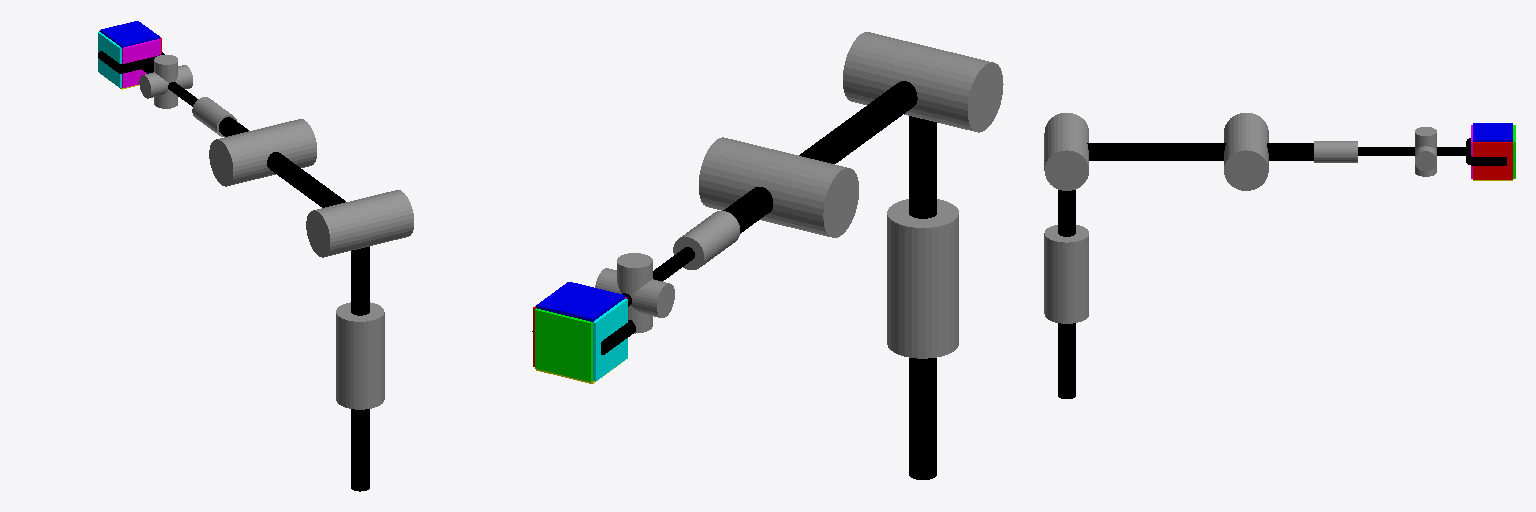
robot.urdf — sixDOF:
<?xml version="1.0"?>

<robot name="sixDOF">
  
  <!-- *************************************************** -->
  <!-- ******************** Kinematics ******************* -->
  <!-- *************************************************** -->

  <link name="world"/>

  <joint name="theta1" type="continuous">
    <parent link="world"/>
    <child  link="link1"/>
    <origin xyz="0 0 0.6" rpy="0 0 0"/>
    <axis   xyz="0 0 1"/>
    <dynamics damping="0.5"/>
  </joint>

  <link name="link1"/>

  <joint name="theta2" type="continuous">
    <parent link="link1"/>
    <child  link="link2"/>
    <origin xyz="0 0 0" rpy="0 0 0"/>
    <axis   xyz="1 0 0"/>
    <dynamics damping="0.5"/>
  </joint>

  <link name="link2"/>

  <joint name="attach-shoulder" type="fixed">
    <parent link="link2"/>
    <child  link="shoulder"/>
  </joint>

  <link name="shoulder"/>

  <joint name="theta3" type="continuous">
    <parent link="link2"/>
    <child  link="link3"/>
    <origin xyz="0 0.4 0" rpy="0 0 0"/>
    <axis   xyz="1 0 0 "/>
    <dynamics damping="0.1"/>
  </joint>

  <link name="link3"/>

  <joint name="attach-elbow" type="fixed">
    <parent link="link3"/>
    <child  link="elbow"/>
  </joint>

  <link name="elbow"/>

  <joint name="theta4" type="continuous">
    <parent link="link3"/>
    <child  link="link4"/>
    <origin xyz="0 0.4 0" rpy="0 0 0"/>
    <axis   xyz="0 1 0"/>
    <dynamics damping="0.02"/>
  </joint>

  <link name="link4"/>

  <joint name="theta5" type="continuous">
    <parent link="link4"/>
    <child  link="link5"/>
    <origin xyz="0 0 0" rpy="0 0 0"/>
    <axis   xyz="0 0 1"/>
    <dynamics damping="0.02"/>
  </joint>

  <link name="link5"/>

  <joint name="theta6" type="continuous">
    <parent link="link5"/>
    <child  link="link6"/>
    <origin xyz="0 0 0" rpy="0 0 0"/>
    <axis   xyz="1 0 0"/>
    <dynamics damping="0.02"/>
  </joint>

  <link name="link6"/>

  <joint name="attach-wrist" type="fixed">
    <parent link="link6"/>
    <child  link="wrist"/>
  </joint>

  <link name="wrist"/>

  <joint name="final" type="fixed">
    <parent link="link6"/>
    <child  link="tip"/>
    <origin xyz="0 0.15 0" rpy="0 0 0"/>
  </joint>

  <link name="tip"/>


  <!-- *************************************************** -->
  <!-- ******************* RVIZ Colors ******************* -->
  <!-- *************************************************** -->

  <material name="white">    <color rgba="1.00 1.00 1.00 1"/>  </material>
  <material name="gray">     <color rgba="0.60 0.60 0.60 1"/>  </material>
  <material name="table">    <color rgba="0.85 0.77 0.77 1"/>  </material>
  <material name="black">    <color rgba="0.00 0.00 0.00 1"/>  </material>

  <material name="red">      <color rgba="1.00 0.00 0.00 1"/>  </material>
  <material name="green">    <color rgba="0.00 1.00 0.00 1"/>  </material>
  <material name="blue">     <color rgba="0.00 0.00 1.00 1"/>  </material>

  <material name="cyan">     <color rgba="0.00 1.00 1.00 1"/>  </material>
  <material name="magenta">  <color rgba="1.00 0.00 1.00 1"/>  </material>
  <material name="yellow">   <color rgba="1.00 1.00 0.00 1"/>  </material>

  <material name="orange">   <color rgba="1.00 0.65 0.00 1"/>  </material>


  <!-- *************************************************** -->
  <!-- ****** Building Blocks (Visual AND Inertial) ****** -->
  <!-- *************************************************** -->

  <!-- *** World-Fixed: Mount 1, Motor 1 *** -->

  <joint name="attach-mount1" type="fixed">
    <parent link="world"/>
    <child  link="mount1"/>
  </joint>
  <link name="mount1">
    <visual>
      <origin xyz="0 0 0.1" rpy="0 0 0"/>
      <geometry>
	<cylinder length="0.2" radius="0.02"/>
      </geometry>
      <material name="black"/>
    </visual>
    <collision>
      <origin xyz="0 0 0.1" rpy="0 0 0"/>
      <geometry>
	<cylinder length="0.2" radius="0.02"/>
      </geometry>
    </collision>
    <inertial>
      <origin xyz="0 0 0.1" rpy="0 0 0"/>
      <mass value="0.2"/>
      <inertia
        ixx="0.000687" ixy="0.0" ixz="0.0"
        iyy="0.000687" iyz="0.0"
        izz="0.000040"/>
    </inertial>
  </link>

  <joint name="attach-motor1" type="fixed">
    <parent link="world"/>
    <child  link="motor1"/>
  </joint>
  <link name="motor1">
    <visual>
      <origin xyz="0 0 0.3" rpy="0 0 0"/>
      <geometry>
	<cylinder length="0.2" radius="0.05"/>
      </geometry>
      <material name="gray"/>
    </visual>
    <collision>
      <origin xyz="0 0 0.3" rpy="0 0 0"/>
      <geometry>
	<cylinder length="0.2" radius="0.05"/>
      </geometry>
    </collision>
    <inertial>
      <origin xyz="0 0 0.3" rpy="0 0 0"/>
      <mass value="2.0"/>
      <inertia
        ixx="0.007917" ixy="0.0" ixz="0.0"
        iyy="0.007917" iyz="0.0"
        izz="0.002500"/>
    </inertial>
  </link>

  <!-- *** Motor 1 Output: Mount 2, Motor 2 *** -->

  <joint name="attach-mount2" type="fixed">
    <parent link="link1"/>
    <child  link="mount2"/>
  </joint>
  <link name="mount2">
    <visual>
      <origin xyz="0 0 -0.1" rpy="0 0 0"/>
      <geometry>
	<cylinder length="0.2" radius="0.02"/>
      </geometry>
      <material name="black"/>
    </visual>
    <collision>
      <origin xyz="0 0 -0.1" rpy="0 0 0"/>
      <geometry>
	<cylinder length="0.2" radius="0.02"/>
      </geometry>
    </collision>
    <inertial>
      <origin xyz="0 0 -0.1" rpy="0 0 0"/>
      <mass value="0.2"/>
      <inertia
        ixx="0.000687" ixy="0.0" ixz="0.0"
        iyy="0.000687" iyz="0.0"
        izz="0.000040"/>
    </inertial>
  </link>

  <joint name="attach-motor2" type="fixed">
    <parent link="link1"/>
    <child  link="motor2"/>
  </joint>
  <link name="motor2">
    <visual>
      <origin xyz="0 0 0" rpy="0 1.5708 0"/>
      <geometry>
	<cylinder length="0.2" radius="0.05"/>
      </geometry>
      <material name="gray"/>
    </visual>
    <collision>
      <origin xyz="0 0 0" rpy="0 1.5708 0"/>
      <geometry>
	<cylinder length="0.2" radius="0.05"/>
      </geometry>
    </collision>
    <inertial>
      <origin xyz="0 0 0" rpy="0 1.5708 0"/>
      <mass value="2.0"/>
      <inertia
        ixx="0.007917" ixy="0.0" ixz="0.0"
        iyy="0.007917" iyz="0.0"
        izz="0.002500"/>
    </inertial>
  </link>

  <!-- *** Motor 2 Output: Mount 3, Motor 3 *** -->

  <joint name="attach-mount3" type="fixed">
    <parent link="link2"/>
    <child  link="mount3"/>
  </joint>
  <link name="mount3">
    <visual>
      <origin xyz="0 0.2 0" rpy="1.5708 0 0"/>
      <geometry>
	<cylinder length="0.4" radius="0.02"/>
      </geometry>
      <material name="black"/>
    </visual>
    <collision>
      <origin xyz="0 0.2 0" rpy="1.5708 0 0"/>
      <geometry>
	<cylinder length="0.4" radius="0.02"/>
      </geometry>
    </collision>
    <inertial>
      <origin xyz="0 0.2 0" rpy="1.5708 0 0"/>
      <mass value="0.4"/>
      <inertia
        ixx="0.005373" ixy="0.0" ixz="0.0"
        iyy="0.005373" iyz="0.0"
        izz="0.000080"/>
    </inertial>
  </link>

  <joint name="attach-motor3" type="fixed">
    <parent link="link2"/>
    <child  link="motor3"/>
  </joint>
  <link name="motor3">
    <visual>
      <origin xyz="0 0.4 0" rpy="0 1.5708 0"/>
      <geometry>
	<cylinder length="0.2" radius="0.05"/>
      </geometry>
      <material name="gray"/>
    </visual>
    <collision>
      <origin xyz="0 0.4 0" rpy="0 1.5708 0"/>
      <geometry>
	<cylinder length="0.2" radius="0.05"/>
      </geometry>
    </collision>
    <inertial>
      <origin xyz="0 0.4 0" rpy="0 1.5708 0"/>
      <mass value="2.0"/>
      <inertia
        ixx="0.007917" ixy="0.0" ixz="0.0"
        iyy="0.007917" iyz="0.0"
        izz="0.002500"/>
    </inertial>
  </link>

  <!-- *** Motor 3 Output: Mount 4, Motor 4 *** -->

  <joint name="attach-mount4" type="fixed">
    <parent link="link3"/>
    <child  link="mount4"/>
  </joint>
  <link name="mount4">
    <visual>
      <origin xyz="0 0.1 0" rpy="1.5708 0 0"/>
      <geometry>
	<cylinder length="0.2" radius="0.02"/>
      </geometry>
      <material name="black"/>
    </visual>
    <collision>
      <origin xyz="0 0.1 0" rpy="1.5708 0 0"/>
      <geometry>
	<cylinder length="0.2" radius="0.02"/>
      </geometry>
    </collision>
    <inertial>
      <origin xyz="0 0.1 0" rpy="1.5708 0 0"/>
      <mass value="0.2"/>
      <inertia
        ixx="0.000687" ixy="0.0" ixz="0.0"
        iyy="0.000687" iyz="0.0"
        izz="0.000040"/>
    </inertial>
  </link>

  <joint name="attach-motor4" type="fixed">
    <parent link="link3"/>
    <child  link="motor4"/>
  </joint>
  <link name="motor4">
    <visual>
      <origin xyz="0 0.2 0" rpy="1.5708 0 0"/>
      <geometry>
	<cylinder length="0.1" radius="0.025"/>
      </geometry>
      <material name="gray"/>
    </visual>
    <collision>
      <origin xyz="0 0.2 0" rpy="1.5708 0 0"/>
      <geometry>
	<cylinder length="0.1" radius="0.025"/>
      </geometry>
    </collision>
    <inertial>
      <origin xyz="0 0.2 0" rpy="1.5708 0 0"/>
      <mass value="1.0"/>
      <inertia
        ixx="0.000990" ixy="0.0" ixz="0.0"
        iyy="0.000990" iyz="0.0"
        izz="0.000313"/>
    </inertial>
  </link>

  <!-- *** Motor 4 Output: Mount 5, Motor 5 *** -->

  <joint name="attach-mount5" type="fixed">
    <parent link="link4"/>
    <child  link="mount5"/>
  </joint>
  <link name="mount5">
    <visual>
      <origin xyz="0 -0.1 0" rpy="1.5708 0 0"/>
      <geometry>
	<cylinder length="0.2" radius="0.01"/>
      </geometry>
      <material name="black"/>
    </visual>
    <collision>
      <origin xyz="0 -0.1 0" rpy="1.5708 0 0"/>
      <geometry>
	<cylinder length="0.2" radius="0.01"/>
      </geometry>
    </collision>
    <inertial>
      <origin xyz="0 -0.1 0" rpy="1.5708 0 0"/>
      <mass value="0.1"/>
      <inertia
        ixx="0.000336" ixy="0.0" ixz="0.0"
        iyy="0.000336" iyz="0.0"
        izz="0.000005"/>
    </inertial>
  </link>

  <joint name="attach-motor5" type="fixed">
    <parent link="link4"/>
    <child  link="motor5"/>
  </joint>
  <link name="motor5">
    <visual>
      <origin xyz="0 0 0" rpy="0 0 0"/>
      <geometry>
	<cylinder length="0.1" radius="0.025"/>
      </geometry>
      <material name="gray"/>
    </visual>
    <collision>
      <origin xyz="0 0 0" rpy="0 0 0"/>
      <geometry>
	<cylinder length="0.1" radius="0.025"/>
      </geometry>
    </collision>
    <inertial>
      <origin xyz="0 0 0" rpy="0 0 0"/>
      <mass value="1.0"/>
      <inertia
        ixx="0.000990" ixy="0.0" ixz="0.0"
        iyy="0.000990" iyz="0.0"
        izz="0.000313"/>
    </inertial>
  </link>

  <!-- *** Motor 5 Output: Motor 6 *** -->

  <joint name="attach-motor6" type="fixed">
    <parent link="link5"/>
    <child  link="motor6"/>
  </joint>
  <link name="motor6">
    <visual>
      <origin xyz="0 0 0" rpy="0 1.5708 0"/>
      <geometry>
	<cylinder length="0.1" radius="0.025"/>
      </geometry>
      <material name="gray"/>
    </visual>
    <collision>
      <origin xyz="0 0 0" rpy="0 1.5708 0"/>
      <geometry>
	<cylinder length="0.1" radius="0.025"/>
      </geometry>
    </collision>
    <inertial>
      <origin xyz="0 0 0" rpy="0 1.5708 0"/>
      <mass value="1.0"/>
      <inertia
        ixx="0.000990" ixy="0.0" ixz="0.0"
        iyy="0.000990" iyz="0.0"
        izz="0.000313"/>
    </inertial>
  </link>

  <!-- *** Motor 6 Output: Base, Palm, Fingers *** -->

  <joint name="attach-handbase" type="fixed">
    <parent link="link6"/>
    <child  link="handbase"/>
  </joint>
  <link name="handbase">
    <visual>
      <origin xyz="0 0.05 0" rpy="1.5708 0 0"/>
      <geometry>
	<cylinder length="0.1" radius="0.01"/>
      </geometry>
      <material name="black"/>
    </visual>
    <collision>
      <origin xyz="0 0.05 0" rpy="1.5708 0 0"/>
      <geometry>
	<cylinder length="0.1" radius="0.01"/>
      </geometry>
    </collision>
    <inertial>
      <origin xyz="0 0.05 0" rpy="1.5708 0 0"/>
      <mass value="0.05"/>
      <inertia
        ixx="0.000043" ixy="0.0" ixz="0.0"
        iyy="0.000043" iyz="0.0"
        izz="0.000003"/>
    </inertial>
  </link>

  <joint name="attach-palm" type="fixed">
    <parent link="link6"/>
    <child  link="palm"/>
  </joint>
  <link name="palm">
    <visual>
      <origin xyz="0 0.1 0" rpy="0 1.5708 0"/>
      <geometry>
	<cylinder length="0.1" radius="0.01"/>
      </geometry>
      <material name="black"/>
    </visual>
    <collision>
      <origin xyz="0 0.1 0" rpy="0 1.5708 0"/>
      <geometry>
	<cylinder length="0.1" radius="0.01"/>
      </geometry>
    </collision>
    <inertial>
      <origin xyz="0 0.1 0" rpy="0 1.5708 0"/>
      <mass value="0.05"/>
      <inertia
        ixx="0.000043" ixy="0.0" ixz="0.0"
        iyy="0.000043" iyz="0.0"
        izz="0.000003"/>
    </inertial>
  </link>

  <joint name="attach-leftfinger" type="fixed">
    <parent link="link6"/>
    <child  link="leftfinger"/>
  </joint>
  <link name="leftfinger">
    <visual>
      <origin xyz="-0.05 0.14 0" rpy="1.5708 0 0"/>
      <geometry>
	<cylinder length="0.08" radius="0.01"/>
      </geometry>
      <material name="black"/>
    </visual>
    <inertial>
      <origin xyz="-0.05 0.14 0" rpy="1.5708 0 0"/>
      <mass value="0.05"/>
      <inertia
        ixx="0.000022" ixy="0.0" ixz="0.0"
        iyy="0.000022" iyz="0.0"
        izz="0.000002"/>
    </inertial>
  </link>

  <joint name="attach-rightfinger" type="fixed">
    <parent link="link6"/>
    <child  link="rightfinger"/>
  </joint>
  <link name="rightfinger">
    <visual>
      <origin xyz="0.05 0.14 0" rpy="1.5708 0 0"/>
      <geometry>
	<cylinder length="0.08" radius="0.01"/>
      </geometry>
      <material name="black"/>
    </visual>
    <inertial>
      <origin xyz="0.05 0.14 0" rpy="1.5708 0 0"/>
      <mass value="0.05"/>
      <inertia
        ixx="0.000022" ixy="0.0" ixz="0.0"
        iyy="0.000022" iyz="0.0"
        izz="0.000002"/>
    </inertial>
  </link>

  <!-- *** Cube: Six sides *** -->

  <joint name="attach-cube" type="fixed">
    <parent link="tip"/>
    <child  link="cube"/>
  </joint>
  <link name="cube">
    <collision>
      <origin xyz="0 0 0" rpy="0 0 0"/>
      <geometry>
	<box size="0.10 0.10 0.10"/>
      </geometry>
    </collision>
    <inertial>
      <origin xyz="0 0 0" rpy="0 0 0"/>
      <mass value="1.0"/>
      <inertia
        ixx="0.000120" ixy="0.0" ixz="0.0"
        iyy="0.000120" iyz="0.0"
        izz="0.000120"/>
    </inertial>
  </link>

  <joint name="attach-cube-xp" type="fixed">
    <parent link="cube"/>
    <child  link="cube-xp"/>
  </joint>
  <link name="cube-xp">
    <visual>
      <origin         xyz=" 0.04   0    0"    rpy="0 0 0"/>
      <geometry> <box size="0.0202 0.09 0.09"/> </geometry>
      <material name="red"/>
    </visual>
  </link>

  <joint name="attach-cube-xm" type="fixed">
    <parent link="cube"/>
    <child  link="cube-xm"/>
  </joint>
  <link name="cube-xm">
    <visual>
      <origin         xyz="-0.04   0    0"    rpy="0 0 0"/>
      <geometry> <box size="0.0202 0.09 0.09"/> </geometry>
      <material name="cyan"/>
    </visual>
  </link>

  <joint name="attach-cube-yp" type="fixed">
    <parent link="cube"/>
    <child  link="cube-yp"/>
  </joint>
  <link name="cube-yp">
    <visual>
      <origin         xyz=" 0    0.04   0"    rpy="0 0 0"/>
      <geometry> <box size="0.09 0.0202 0.09"/> </geometry>
      <material name="green"/>
    </visual>
  </link>

  <joint name="attach-cube-ym" type="fixed">
    <parent link="cube"/>
    <child  link="cube-ym"/>
  </joint>
  <link name="cube-ym">
    <visual>
      <origin         xyz=" 0   -0.04   0"    rpy="0 0 0"/>
      <geometry> <box size="0.09 0.0202 0.09"/> </geometry>
      <material name="magenta"/>
    </visual>
  </link>

  <joint name="attach-cube-zp" type="fixed">
    <parent link="cube"/>
    <child  link="cube-zp"/>
  </joint>
  <link name="cube-zp">
    <visual>
      <origin         xyz=" 0    0    0.04"   rpy="0 0 0"/>
      <geometry> <box size="0.09 0.09 0.0202"/> </geometry>
      <material name="blue"/>
    </visual>
  </link>

  <joint name="attach-cube-zm" type="fixed">
    <parent link="cube"/>
    <child  link="cube-zm"/>
  </joint>
  <link name="cube-zm">
    <visual>
      <origin         xyz=" 0    0   -0.04"   rpy="0 0 0"/>
      <geometry> <box size="0.09 0.09 0.0202"/> </geometry>
      <material name="yellow"/>
    </visual>
  </link>


  <!-- *************************************************** -->
  <!-- ******************* Gazebo Colors ***************** -->
  <!-- *************************************************** -->

  <gazebo reference="motor1"> <material>Gazebo/Gray</material>  </gazebo>
  <gazebo reference="motor2"> <material>Gazebo/Gray</material>  </gazebo>
  <gazebo reference="motor3"> <material>Gazebo/Gray</material>  </gazebo>
  <gazebo reference="motor4"> <material>Gazebo/Gray</material>  </gazebo>
  <gazebo reference="motor5"> <material>Gazebo/Gray</material>  </gazebo>
  <gazebo reference="motor6"> <material>Gazebo/Gray</material>  </gazebo>

  <gazebo reference="mount1">   <material>Gazebo/Black</material> </gazebo>
  <gazebo reference="mount2">   <material>Gazebo/Black</material> </gazebo>
  <gazebo reference="mount3">   <material>Gazebo/Black</material> </gazebo>
  <gazebo reference="mount4">   <material>Gazebo/Black</material> </gazebo>
  <gazebo reference="mount5">   <material>Gazebo/Black</material> </gazebo>

  <gazebo reference="handbase">    <material>Gazebo/Black</material> </gazebo>
  <gazebo reference="palm">        <material>Gazebo/Black</material> </gazebo>
  <gazebo reference="leftfinger">  <material>Gazebo/Black</material> </gazebo>
  <gazebo reference="rightfinger"> <material>Gazebo/Black</material> </gazebo>

  <gazebo reference="cube-xp"> <material>Gazebo/Red</material>     </gazebo>
  <gazebo reference="cube-xm"> <material>Gazebo/Cyan</material>    </gazebo>
  <gazebo reference="cube-yp"> <material>Gazebo/Green</material>   </gazebo>
  <gazebo reference="cube-ym"> <material>Gazebo/Magenta</material> </gazebo>
  <gazebo reference="cube-zp"> <material>Gazebo/Blue</material>    </gazebo>
  <gazebo reference="cube-zm"> <material>Gazebo/Yellow</material>  </gazebo>


</robot>

--- What the picture shows (computed from the rendered views, not written in the file) ---
Views: 3 orthographic renders of the robot side by side, from view 1: azimuth 30°, elevation 25°; view 2: azimuth 150°, elevation 25°; view 3: azimuth 270°, elevation 25°.
Model sixDOF with 33 links and 32 joints (6 continuous, 26 fixed), rooted at world, posed every joint at zero.
Links seen in each view (by area): view 1: motor2, motor1, motor3, mount3, mount1, mount2, cube-zp, cube-ym, motor5, motor6, motor4, cube-xm; view 2: motor1, motor2, motor3, cube-yp, mount3, mount1, mount2, motor4, cube-zp, cube-xm, motor6, motor5 (+2 smaller); view 3: motor1, motor2, motor3, mount3, mount1, cube-xp, motor4, mount4, mount2, cube-zp, motor5.
Boxes of the visible links, x1,y1,x2,y2 form: motor2: (306,190,413,257); motor1: (336,302,384,409); motor3: (209,119,316,186); mount3: (267,152,345,207); mount1: (351,409,369,491); mount2: (351,246,369,315); cube-zp: (100,21,159,47); cube-ym: (122,39,160,87); motor5: (154,55,177,108); motor6: (139,65,192,98); motor4: (192,97,236,136); cube-xm: (98,32,121,87); motor1: (887,199,958,358); motor2: (843,32,1003,132); motor3: (699,137,858,237); cube-yp: (535,308,592,381); mount3: (799,81,917,163); mount1: (909,358,936,479); mount2: (909,116,936,218); motor4: (673,211,739,269); cube-zp: (536,282,624,321); cube-xm: (593,299,627,381); motor6: (595,268,674,317); motor5: (617,253,652,333); motor1: (1044,225,1088,323); motor2: (1044,113,1088,190); motor3: (1224,113,1268,190); mount3: (1087,143,1225,160); mount1: (1058,323,1075,398); cube-xp: (1473,142,1512,179); motor4: (1314,141,1357,162); mount4: (1267,143,1313,160); mount2: (1058,190,1075,236); cube-zp: (1473,123,1512,141); motor5: (1415,127,1436,176).
Size in the robot's own frame: 0.2 by 1.05 by 0.6501 metres.
Geometry: primitives only (box / cylinder / sphere), no mesh files.